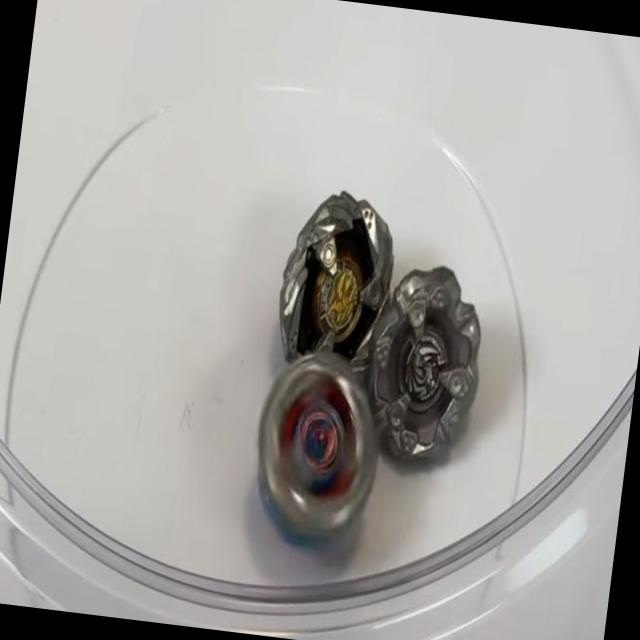Beyblade: (352, 260, 492, 468), (264, 177, 408, 378), (246, 347, 388, 546)
